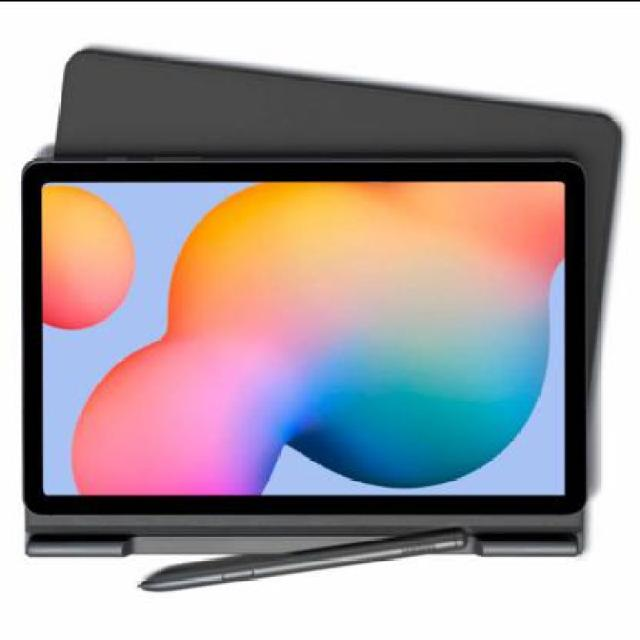tablet: (33, 144, 601, 560), (39, 20, 634, 197)
